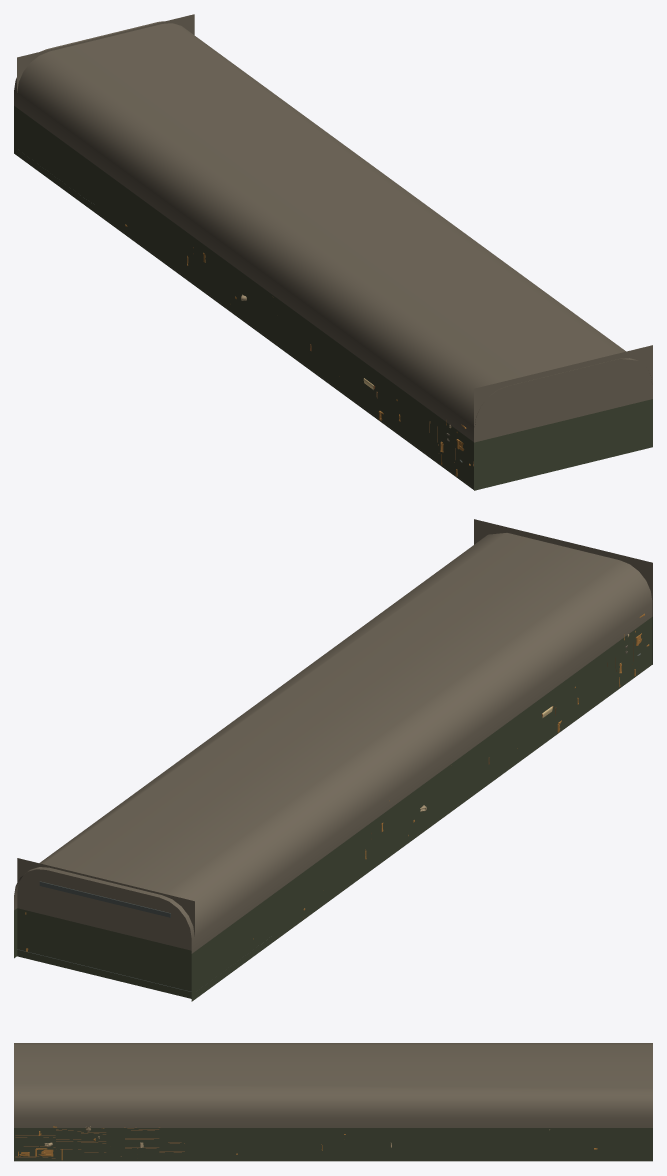
Rendered from Basement.fbx.
The picture shows the model from 3 angles, top to bottom: view 1: azimuth 30°, elevation 25°; view 2: azimuth 150°, elevation 25°; view 3: azimuth 270°, elevation 25°; orthographic projection. The views are drawn at different scales.
Parts seen in each view (by area): view 1: Basement; view 2: Basement; view 3: Basement.
Part boxes in pixels (x1=…): Basement: x1=14, y1=14, x2=652, y2=490; Basement: x1=14, y1=519, x2=652, y2=1001; Basement: x1=14, y1=1043, x2=652, y2=1161.
Size of the model in its own units: 1170 by 617 by 5000.
1 material, 1 textured.
